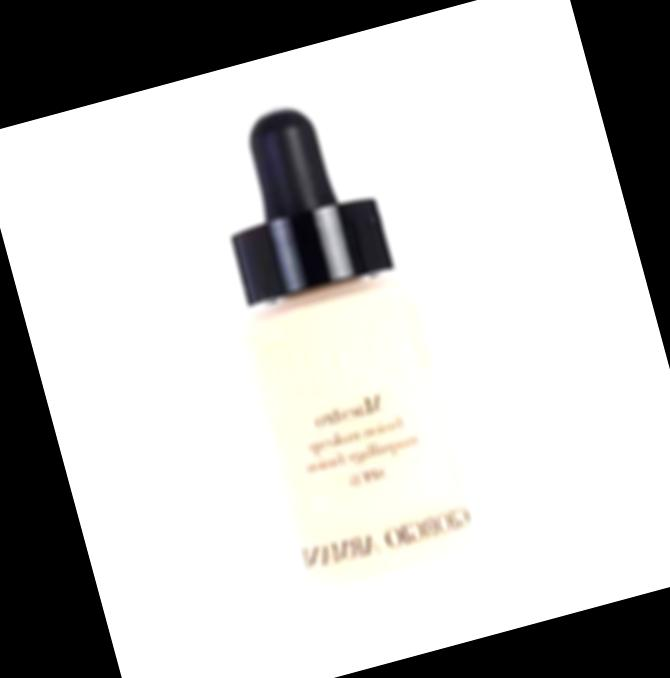cosmetic: (163, 76, 522, 632)
